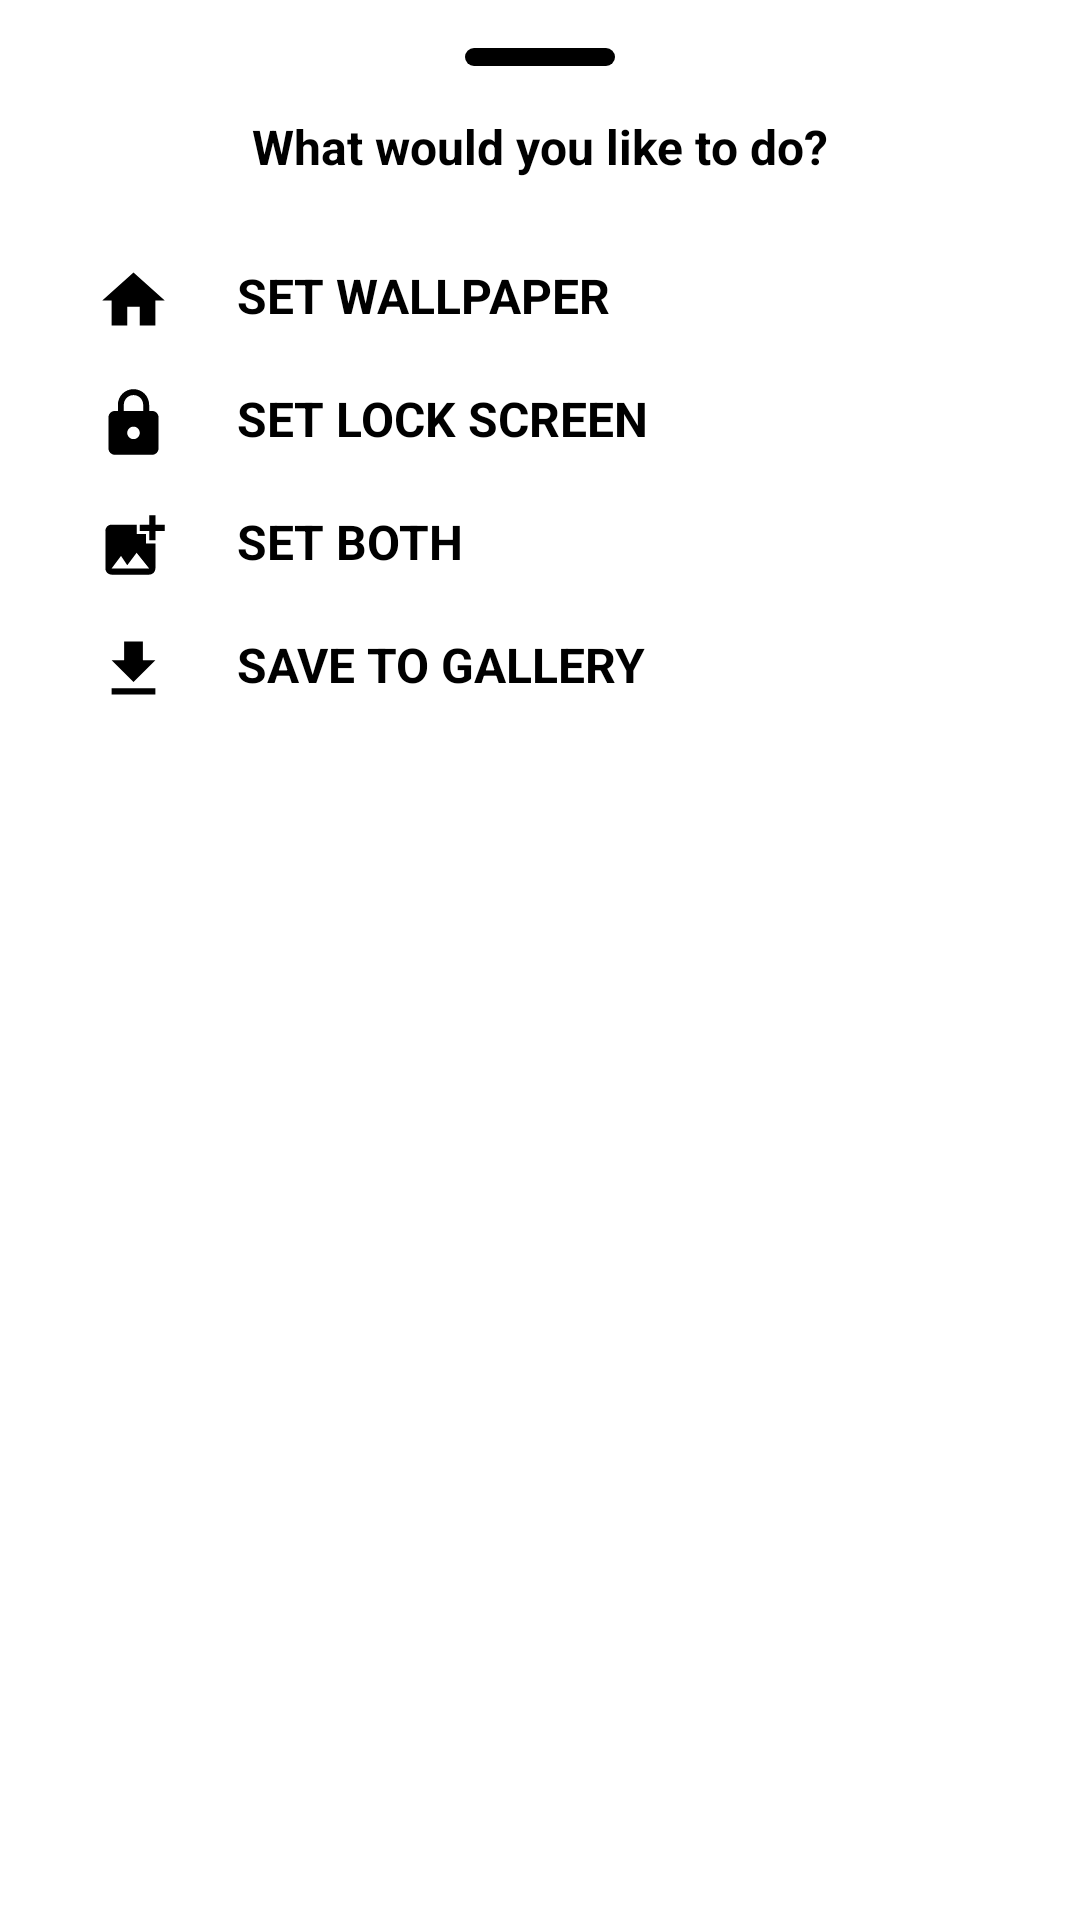

Where to tap for icons on this 1080x1920 app screen, as (x,y):
add photo alternate: (135,545)
download: (133,668)
home: (133,299)
